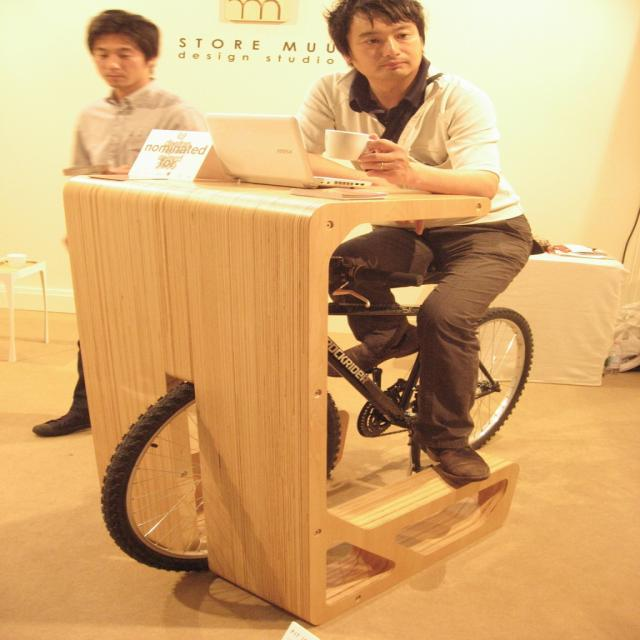desk: (75, 180, 513, 624)
laptop: (205, 112, 386, 190), (85, 127, 211, 182)
person: (283, 1, 540, 480), (66, 7, 212, 184)
